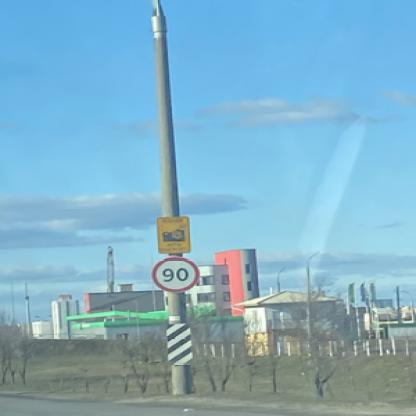speedlimit: (150, 256, 198, 292)
